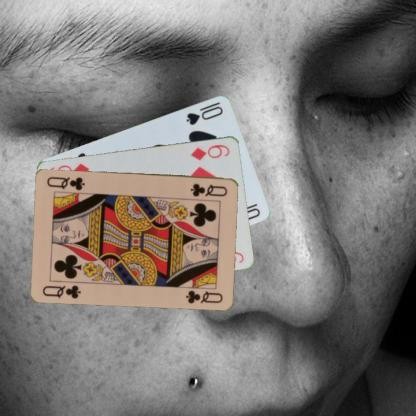10s: (183, 99, 224, 126)
6d: (188, 141, 231, 162)
Qc: (40, 282, 82, 300), (188, 180, 229, 198)
